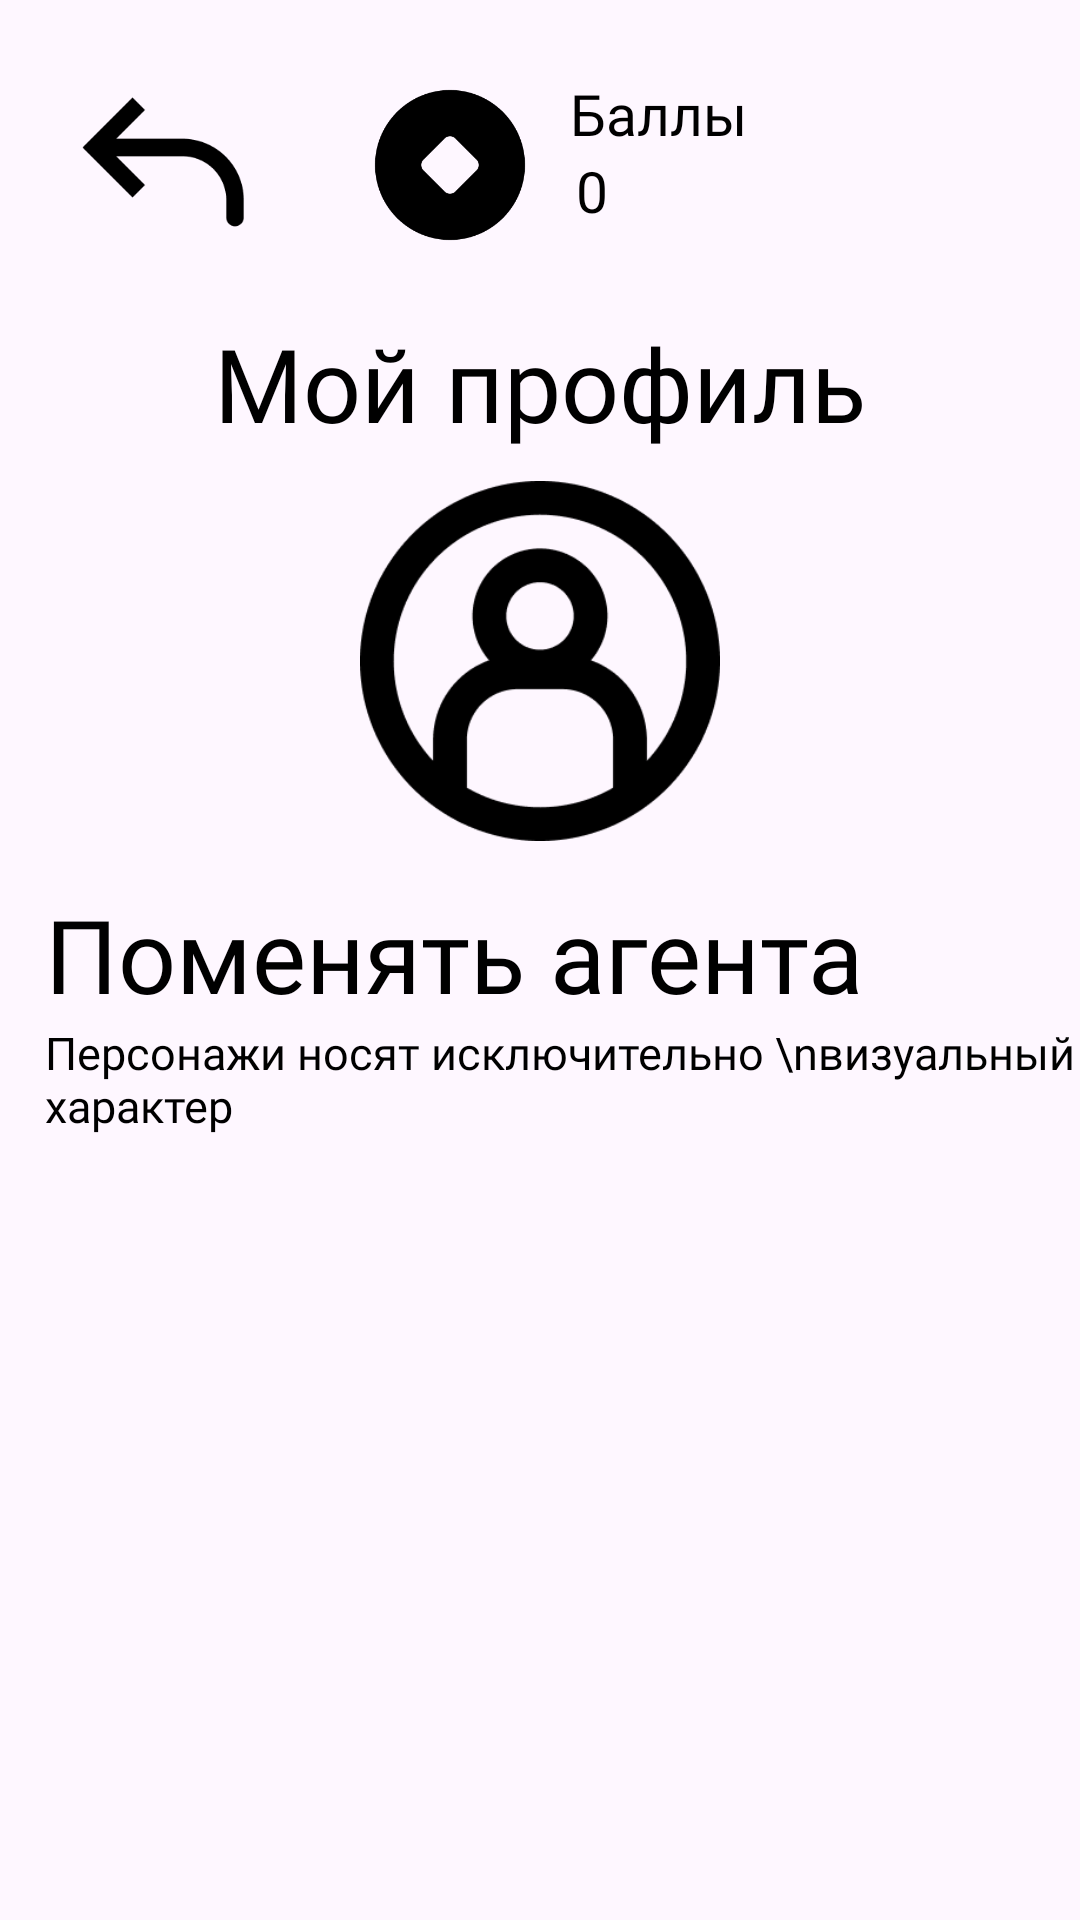

Icon bounding boxes for this 1080 × 1920 phone screenshot, format [x1,y1,x2,y2]:
back: [82,97,244,227]
coin: [375,90,525,240]
